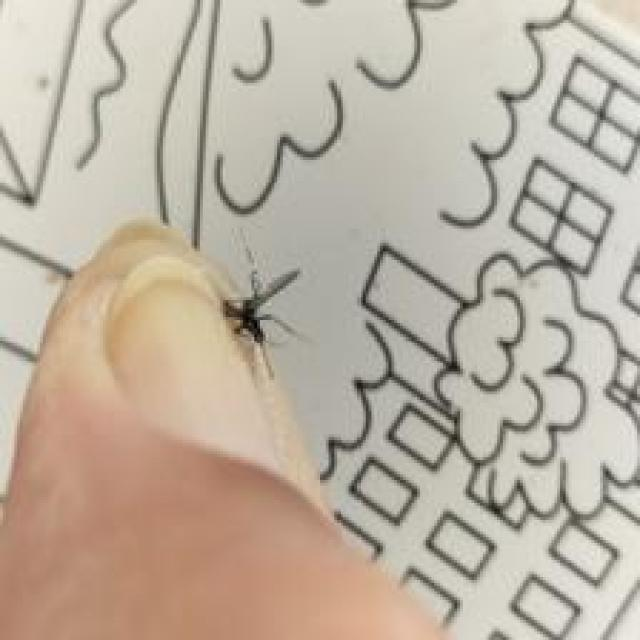Aedes albopictus: (222, 263, 302, 380)
